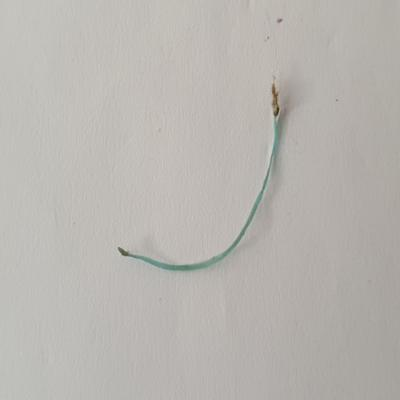thread: (112, 77, 289, 278)
